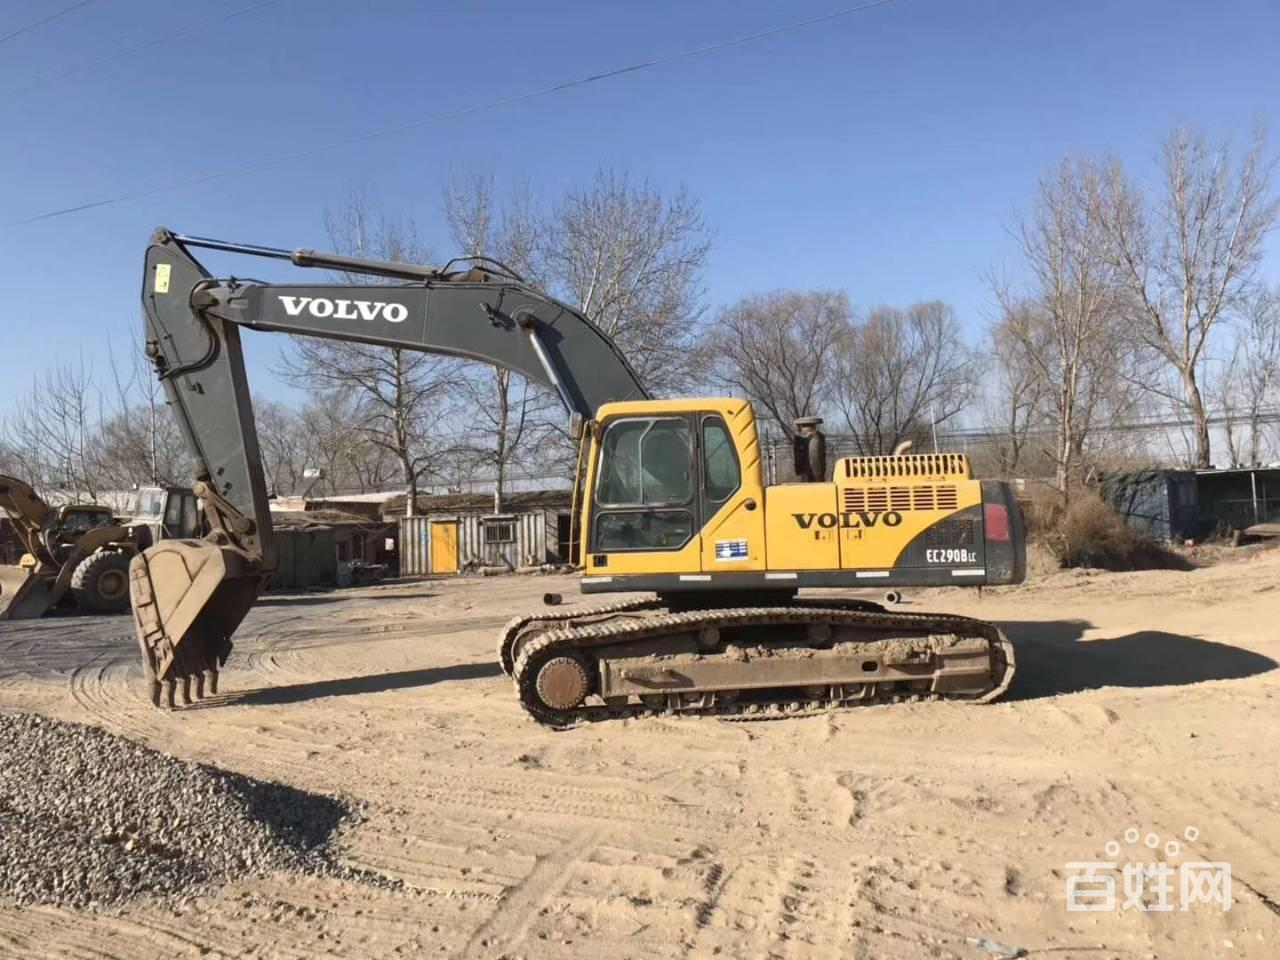excavator: (97, 221, 1039, 723)
